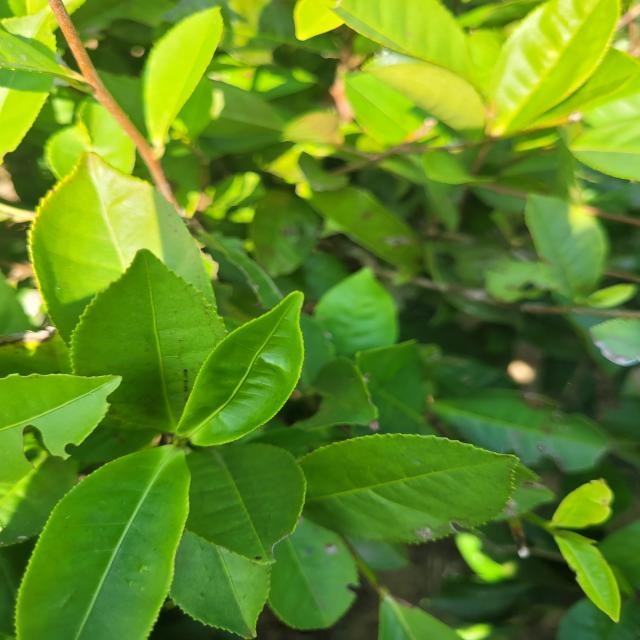Catagory A(1-2 days): (168, 292, 343, 447)
